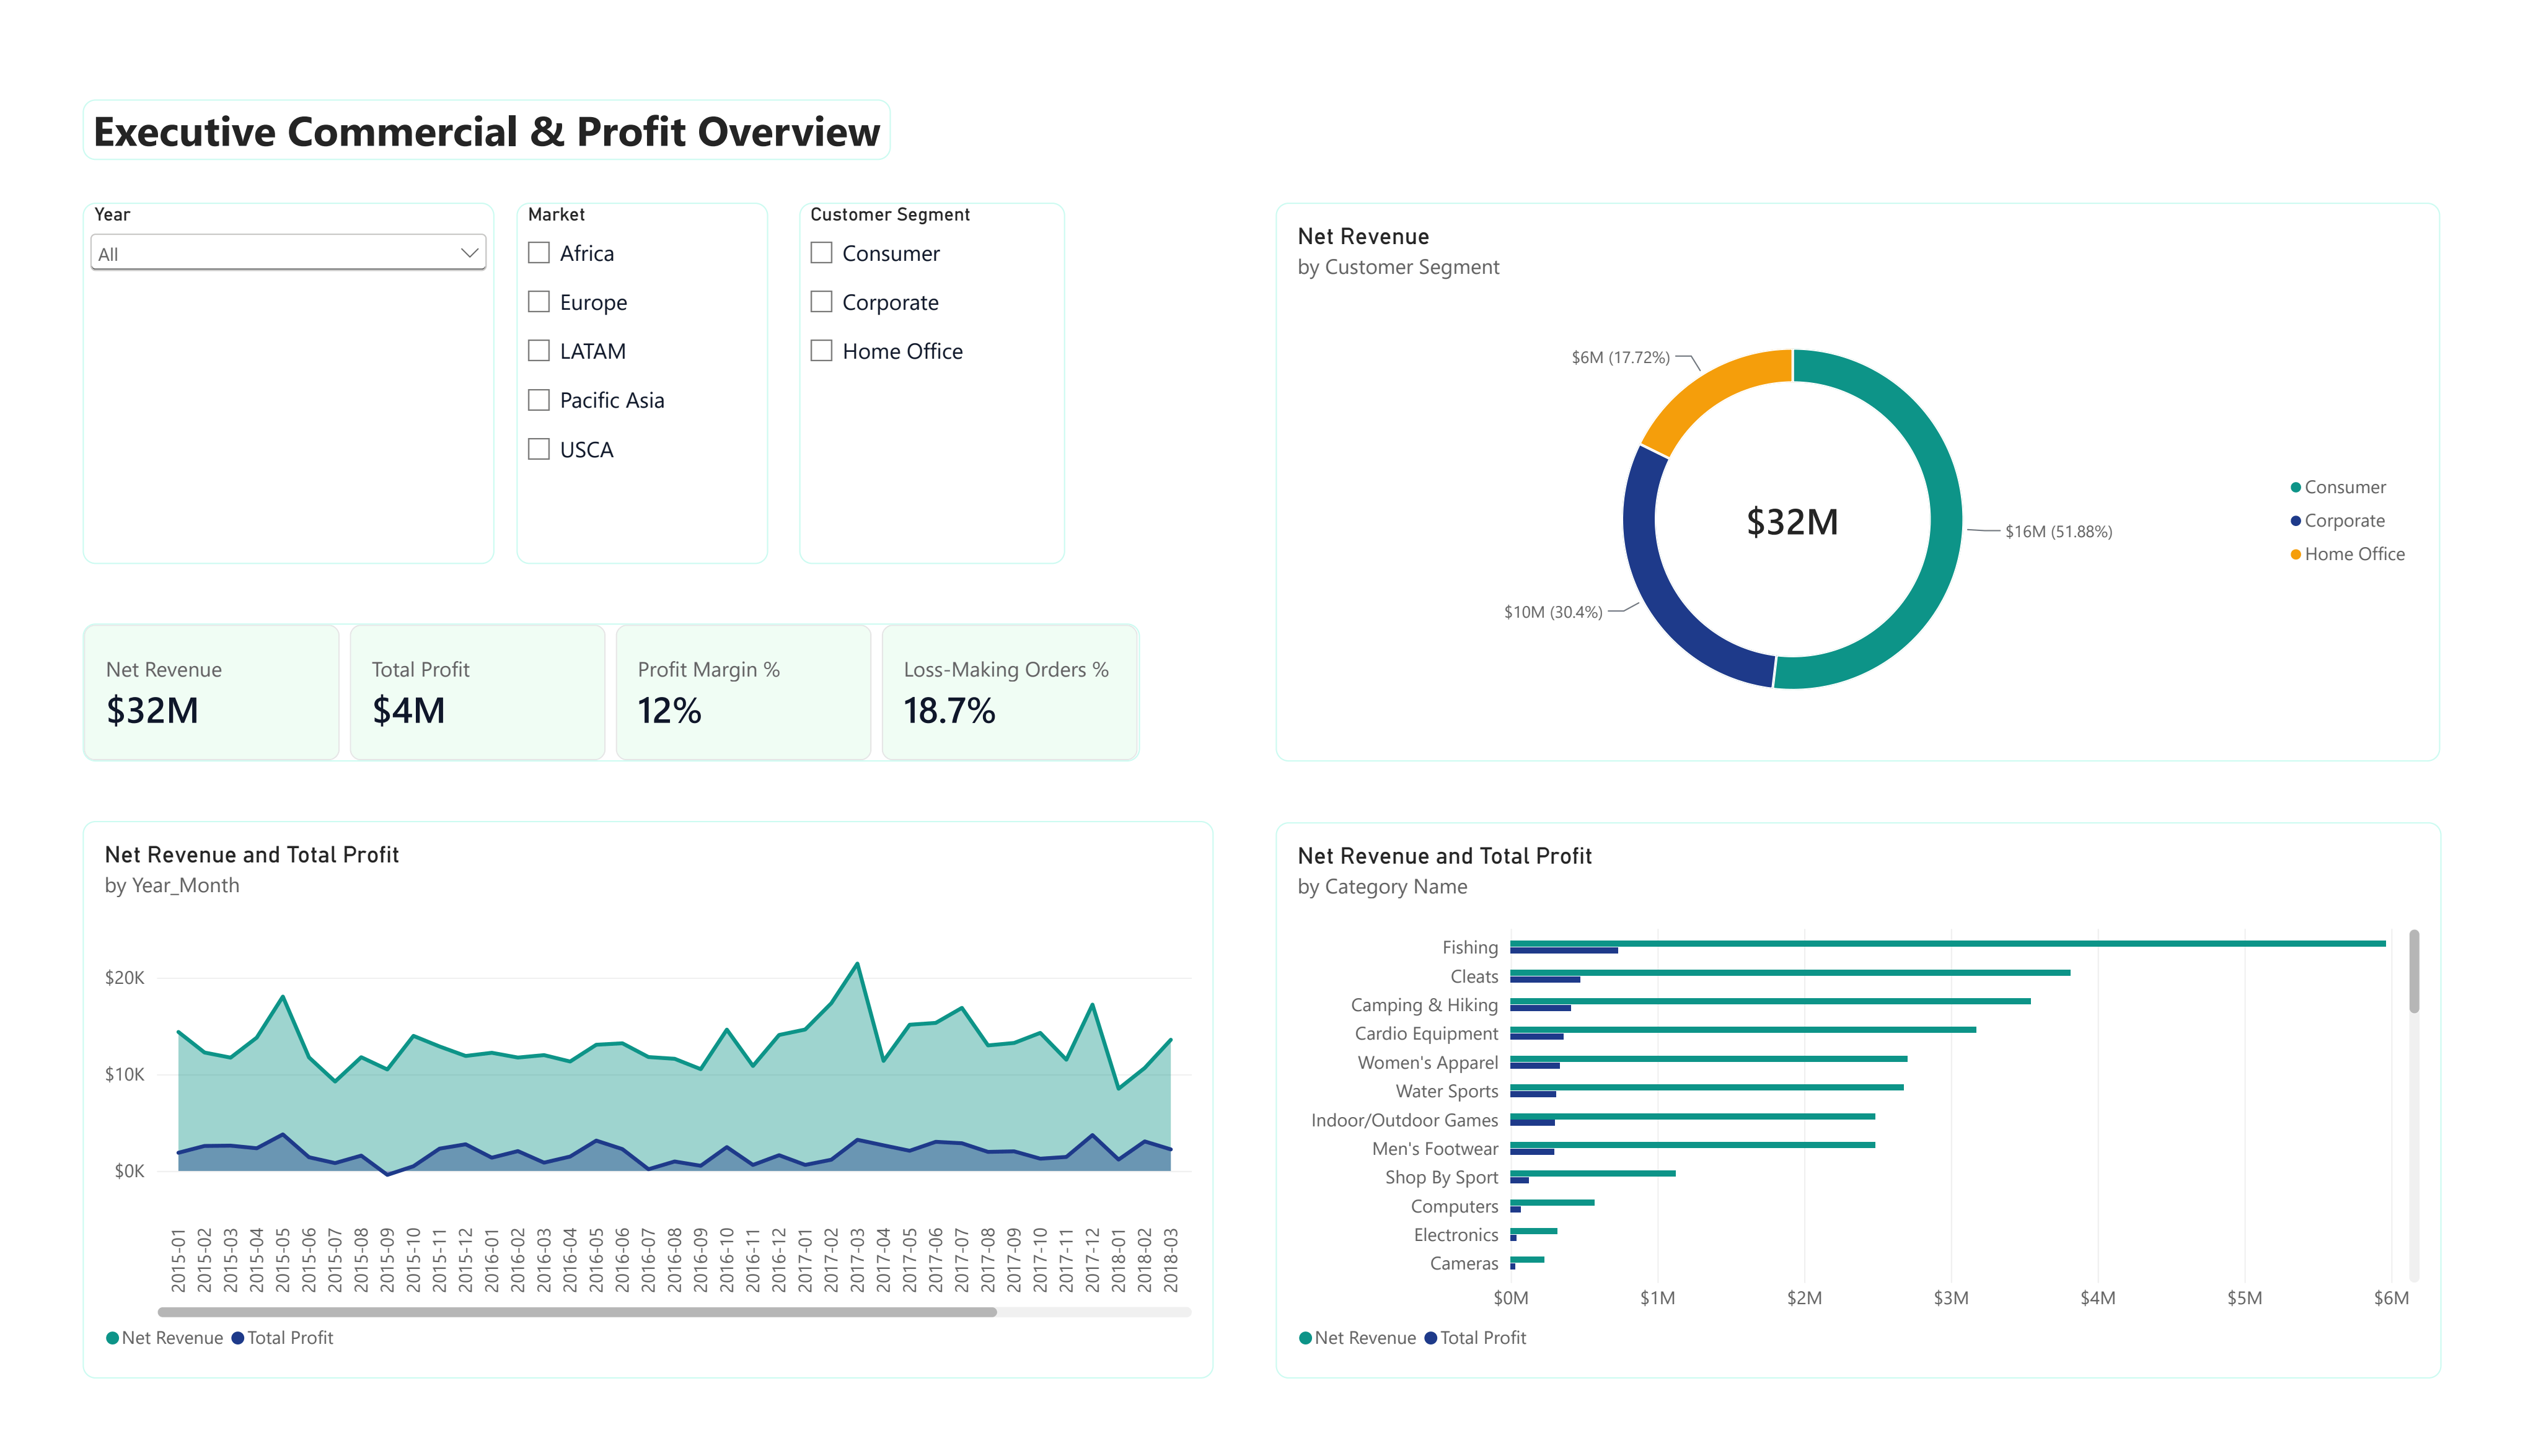

Layout of this report page (visuals, bound fields, positions):
{"tool":"powerbi","page":{"name":"Executive Overview","canvas":[1920,1080],"ordinal":1},"visuals":[{"type":"slicer","fields":{"Values":["Dim_Date.Year"]},"box":[40,133,318.8,280],"z":0},{"type":"slicer","fields":{"Values":["Dim_Geography.Market"]},"box":[376.2,132.5,195,280],"z":1000},{"type":"slicer","fields":{"Values":["Dim_Customer.Customer Segment"]},"box":[595,132.5,206.2,280],"z":2000},{"type":"cardVisual","fields":{"Data":["_Measures.Net Revenue","_Measures.Total Profit","_Measures.Profit Margin %","_Measures.Loss-Making Orders %"]},"box":[40,458.8,818.8,107.5],"z":3000},{"type":"lineChart","fields":{"Category":["Dim_Date.Year_Month"],"Y":["_Measures.Net Revenue","_Measures.Total Profit"]},"box":[40,612,876.2,432.5],"z":4000},{"type":"clusteredBarChart","fields":{"Category":["Dim_Product.Category Name"],"Y":["_Measures.Net Revenue","_Measures.Total Profit"]},"box":[963.7,612.5,902.9,431.4],"z":5000},{"type":"textbox","box":[40,52.5,626.2,47.5],"z":6000},{"type":"donutChart","fields":{"Category":["Dim_Customer.Customer Segment"],"Y":["_Measures.Net Revenue"]},"box":[963.8,132.5,902.5,433.8],"z":7000}]}

Visuals, with their boxes on the page's 1920x1080 design canvas (x1, y1, x2, y2). These are canvas units, not pixel positions in the 2541x1456 screenshot, which may show the page scaled, cropped or inside an application window:
slicer - Dim_Date.Year: x1=40 y1=133 x2=359 y2=413
slicer - Dim_Geography.Market: x1=376 y1=132 x2=571 y2=412
slicer - Dim_Customer.Customer Segment: x1=595 y1=132 x2=801 y2=412
cardVisual - _Measures.Net Revenue x _Measures.Total Profit: x1=40 y1=459 x2=859 y2=566
lineChart - Dim_Date.Year_Month x _Measures.Net Revenue: x1=40 y1=612 x2=916 y2=1044
clusteredBarChart - Dim_Product.Category Name x _Measures.Net Revenue: x1=964 y1=612 x2=1867 y2=1044
textbox: x1=40 y1=52 x2=666 y2=100
donutChart - Dim_Customer.Customer Segment x _Measures.Net Revenue: x1=964 y1=132 x2=1866 y2=566
